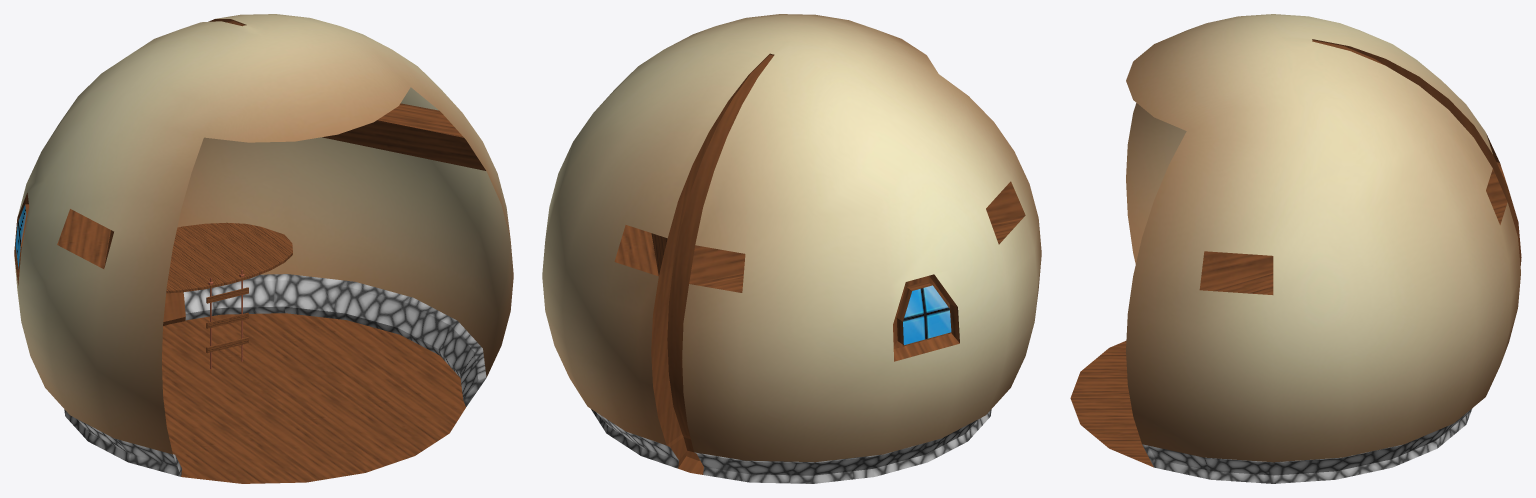
File: InteriorRoom.fbx
The picture shows the model from 3 angles, left to right: view 1: azimuth 30°, elevation 25°; view 2: azimuth 150°, elevation 25°; view 3: azimuth 270°, elevation 25°; orthographic projection.
Visible parts, largest first — view 1: Interior_House, Rope_Ladder; view 2: Interior_House; view 3: Interior_House.
Part boxes in pixels (box(x1,y1,x2,y2)): Interior_House: box(14, 14, 513, 483); Rope_Ladder: box(206, 270, 248, 369); Interior_House: box(542, 14, 1041, 483); Interior_House: box(1070, 14, 1521, 483).
Bounding box in the file's own units: 10.39 × 8.25 × 9.35.
Materials: 2 (2 with a texture image).
